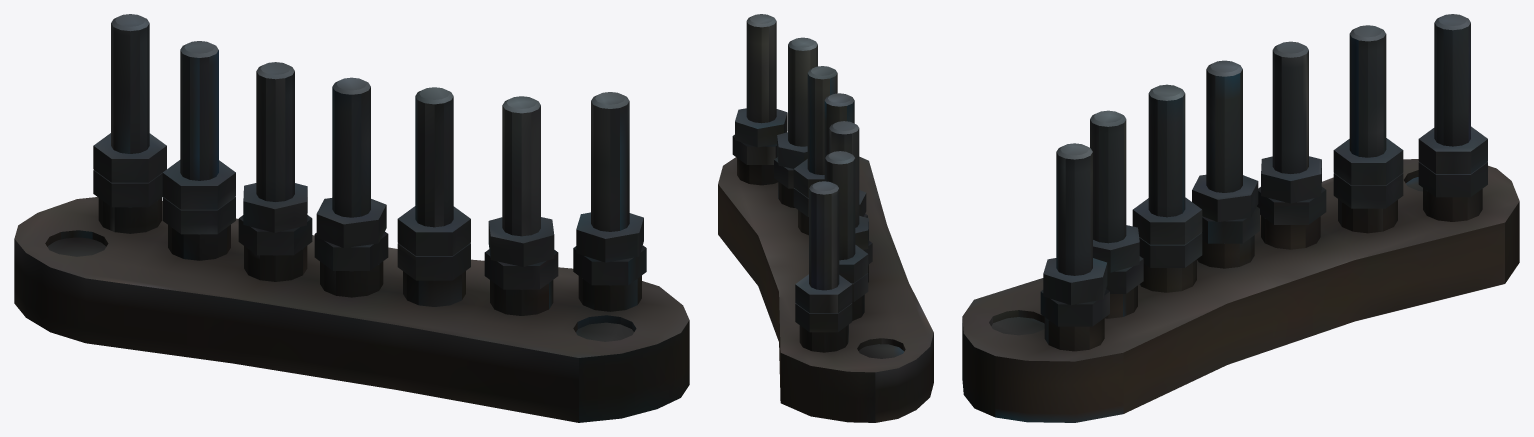
File: pad.fbx
3 renders of one model, left to right at view 1: azimuth 30°, elevation 25°; view 2: azimuth 150°, elevation 25°; view 3: azimuth 270°, elevation 25°, orthographic. The views are drawn at different scales.
Parts seen in each view (by area): view 1: pad; view 2: pad; view 3: pad.
Part boxes in pixels (x1,y1,x2,y2): pad: (14,14,689,422); pad: (718,14,933,422); pad: (962,14,1519,422).
Size of the model in its own units: 0.0663 by 0.0381 by 0.0768.
